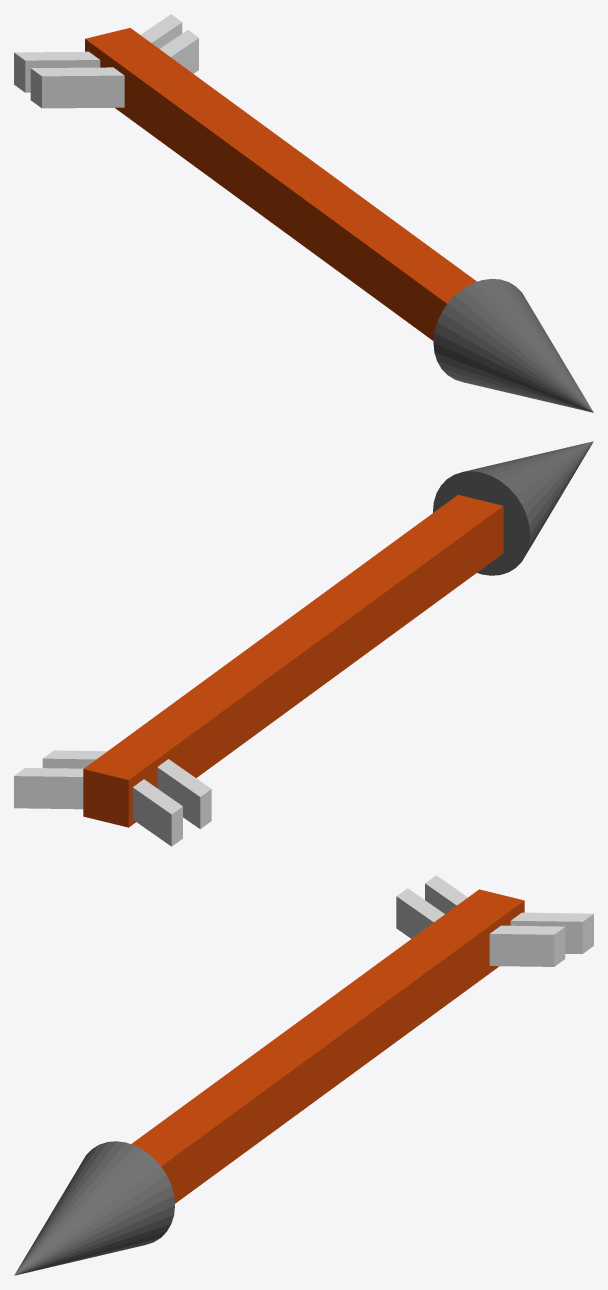
File: Arrow.fbx
3 views of the same model, one above another, from view 1: azimuth 30°, elevation 25°; view 2: azimuth 150°, elevation 25°; view 3: azimuth 330°, elevation 25° (orthographic).
Visible parts, largest first — view 1: shaft, head, Fletching; view 2: shaft, Fletching, head; view 3: shaft, head, Fletching.
Boxes of the visible parts, x1,y1,x2,y2 form: shaft: (85,28,476,340); head: (433,279,593,412); Fletching: (14,14,198,108); shaft: (83,495,503,827); Fletching: (14,750,211,846); head: (433,441,593,575); shaft: (131,889,524,1203); head: (14,1141,174,1275); Fletching: (396,875,593,966).
Size of the model in its own units: 50.42 by 30 by 268.
